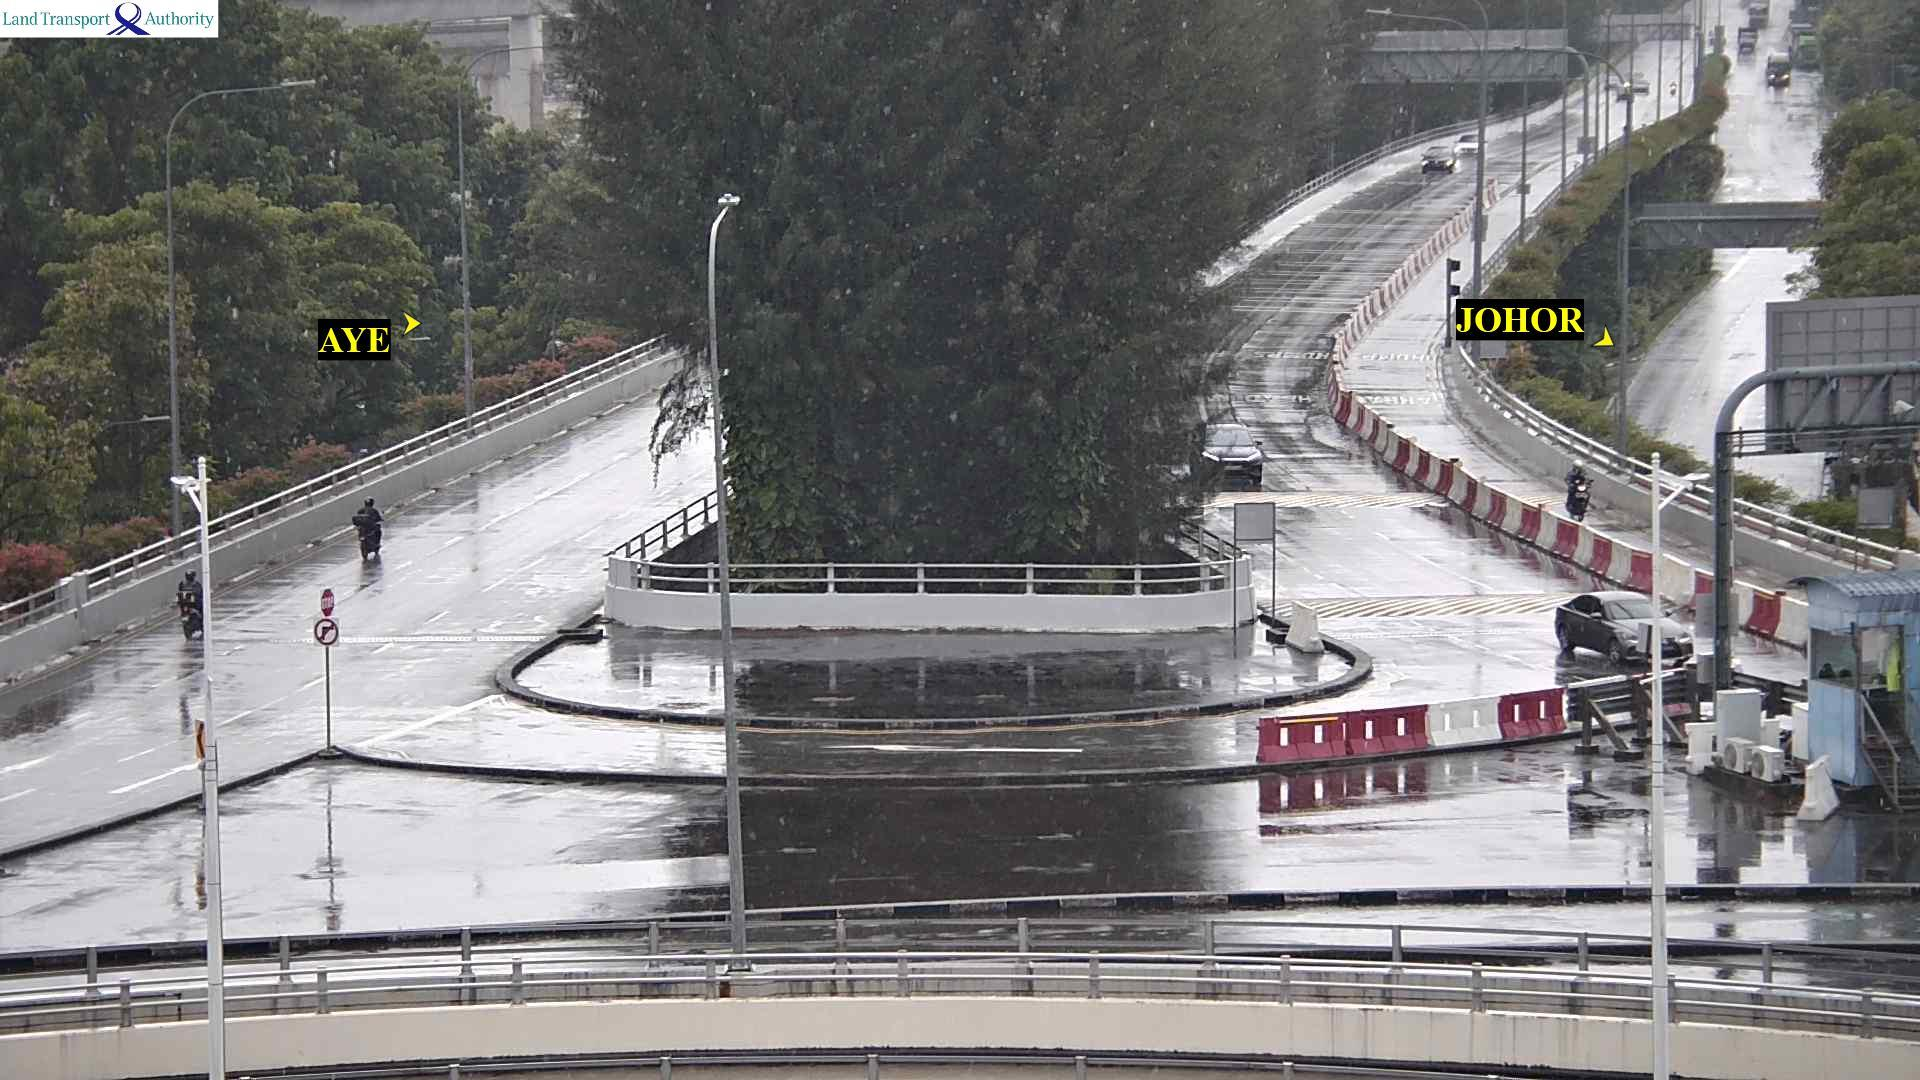vehicle-secondlink-johor: (1564, 593, 1713, 668), (1199, 428, 1278, 490), (1566, 468, 1596, 509), (1424, 144, 1454, 172), (1458, 135, 1485, 156), (1606, 74, 1624, 88), (1616, 83, 1629, 100), (1626, 71, 1642, 83), (1633, 80, 1651, 90), (1669, 80, 1677, 97)
vehicle-secondlink-singapore: (356, 500, 386, 553), (179, 577, 207, 631)
